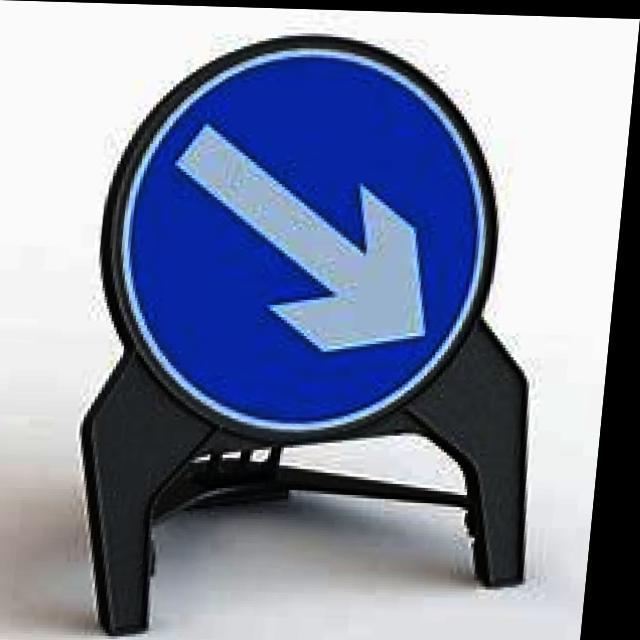COMPULSARY_KEEP_RIGHT: (97, 31, 509, 435)
